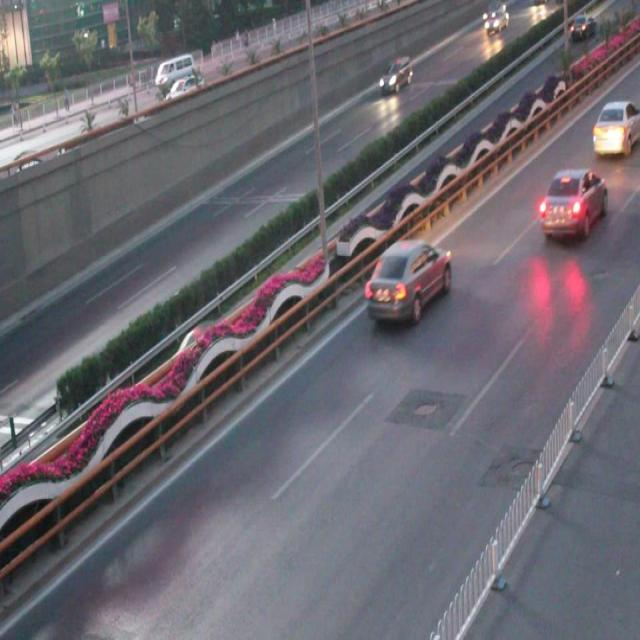car: (366, 237, 450, 320), (537, 167, 608, 240), (591, 101, 640, 157), (176, 318, 220, 364), (377, 55, 412, 94)
